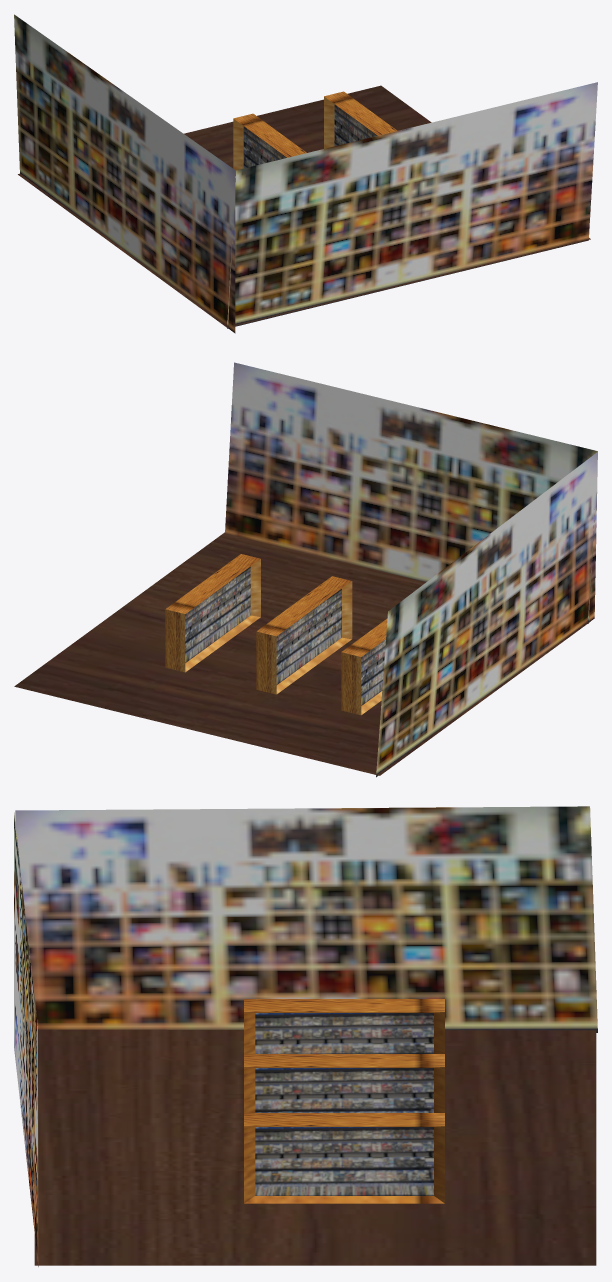
File: game_store.glb
The picture shows the model from 3 angles, top to bottom: view 1: azimuth 30°, elevation 25°; view 2: azimuth 150°, elevation 25°; view 3: azimuth 270°, elevation 25°; orthographic projection. The views are drawn at different scales.
Parts seen in each view (by area): view 1: Plane.001, Plane.002, Plane, Shelf.003, Shelf.004, Inside.007, Inside.010; view 2: Plane.001, Plane, Plane.002, Shelf.003, Shelf.004, Inside.010, Inside.007, Shelf.002, Inside.006; view 3: Plane.002, Plane, Inside.009, Inside.008, Inside.005, Plane.001, Shelf.004, Shelf.003, Shelf.002.
Boxes of the visible parts, x1,y1,x2,y2 form: Plane.001: [227, 82, 597, 328]; Plane.002: [14, 14, 235, 333]; Plane: [18, 85, 590, 327]; Shelf.003: [233, 113, 306, 177]; Shelf.004: [324, 91, 397, 148]; Inside.007: [243, 126, 286, 168]; Inside.010: [334, 104, 377, 146]; Plane.001: [225, 362, 597, 623]; Plane: [14, 532, 590, 775]; Plane.002: [376, 452, 597, 777]; Shelf.003: [256, 576, 352, 694]; Shelf.004: [165, 554, 260, 672]; Inside.010: [185, 566, 250, 662]; Inside.007: [276, 589, 341, 684]; Shelf.002: [341, 619, 387, 715]; Inside.006: [361, 639, 385, 705]; Plane.002: [15, 806, 597, 1032]; Plane: [34, 1029, 596, 1265]; Inside.009: [255, 1127, 433, 1195]; Inside.008: [255, 1068, 433, 1112]; Inside.005: [255, 1013, 433, 1053]; Plane.001: [14, 812, 38, 1266]; Shelf.004: [244, 1113, 444, 1203]; Shelf.003: [244, 1054, 444, 1112]; Shelf.002: [244, 999, 444, 1053].
Size of the model in its own units: 21.41 by 9.15 by 21.92.
12 materials, 12 textured.
